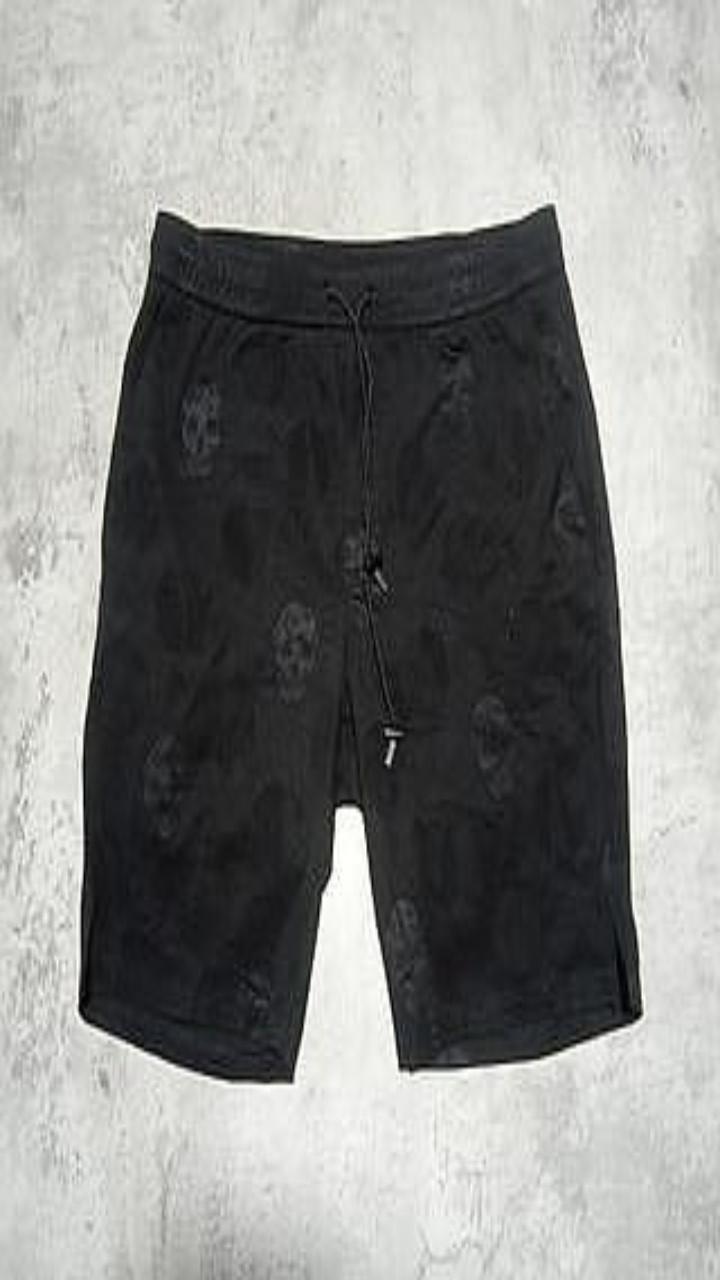Shorts: (79, 204, 641, 1080)
